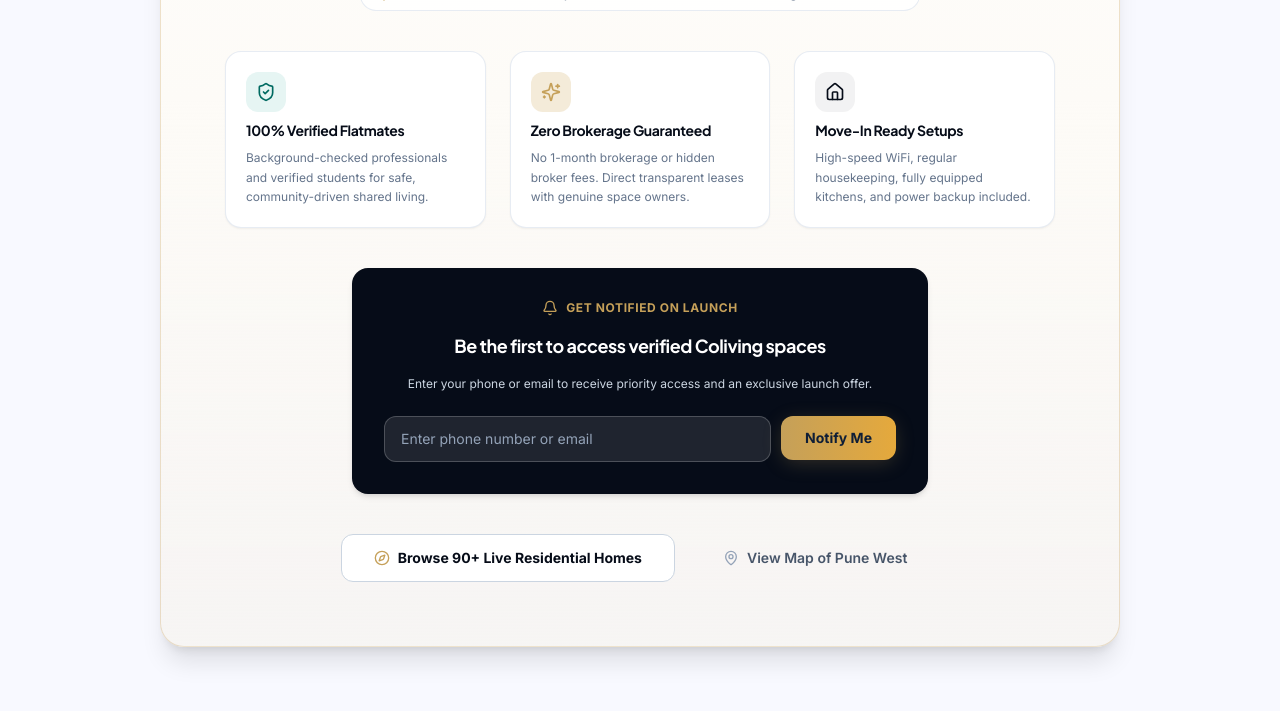
CategoryComingSoon › allows user to submit waitlist notification input and shows success feedback
The width and height of the screenshot is (1280, 711).
(page scrolled)
Type "test@example.com" into the field with placeholder "Enter phone number or email" at coordinates (578, 438), box [384, 416, 771, 462]
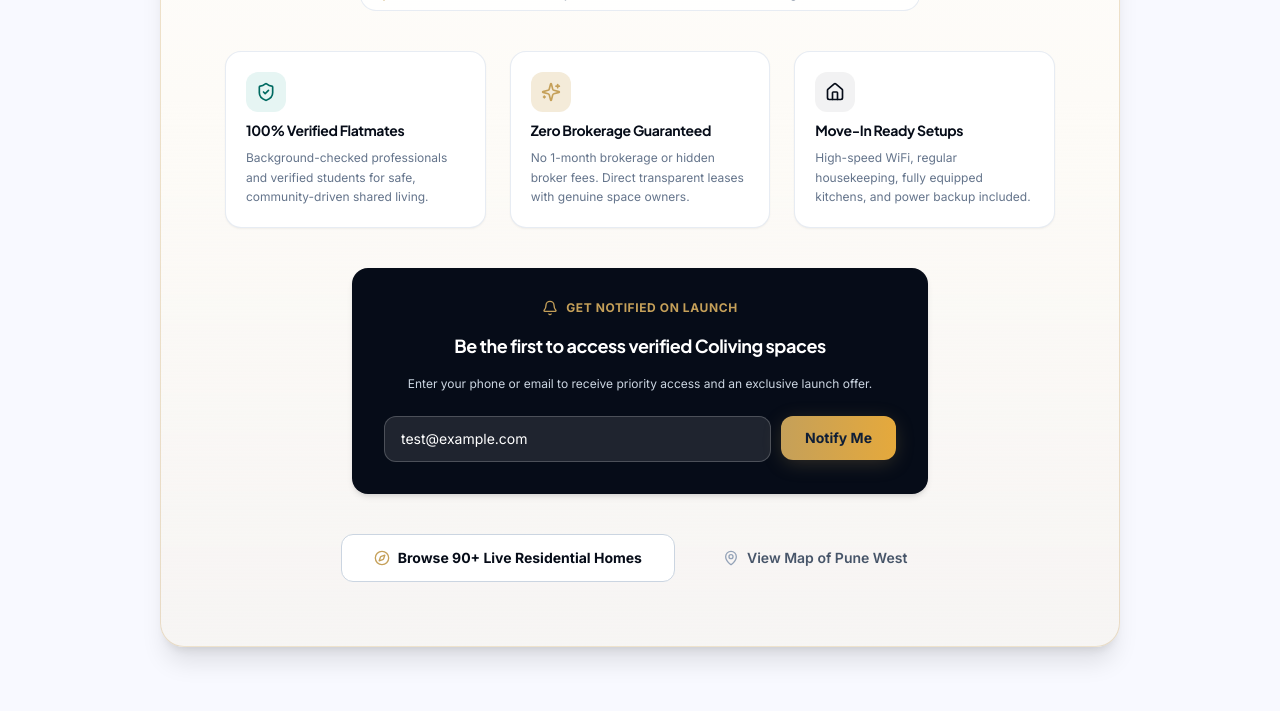
Click the button "Notify Me" at coordinates (839, 438), box [781, 416, 896, 460]
(page scrolled)
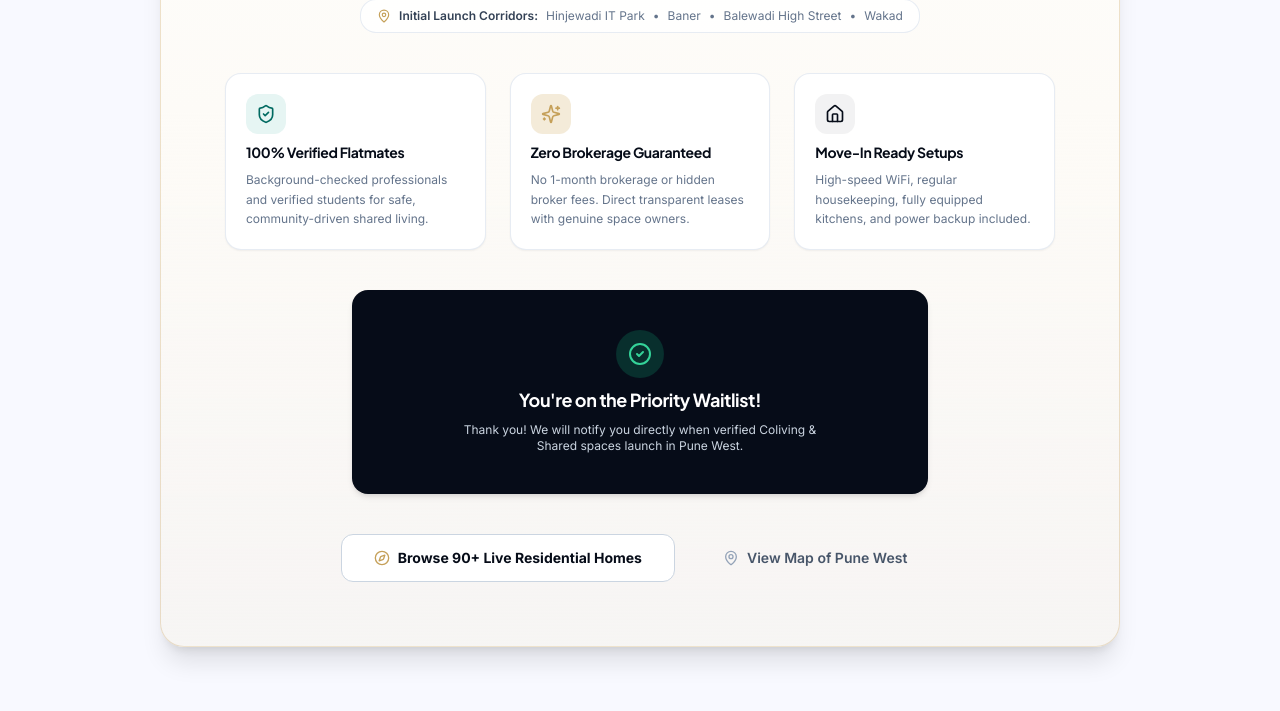
Now the heading "You're on the Priority Waitlist!" is shown, box [519, 386, 761, 414]
